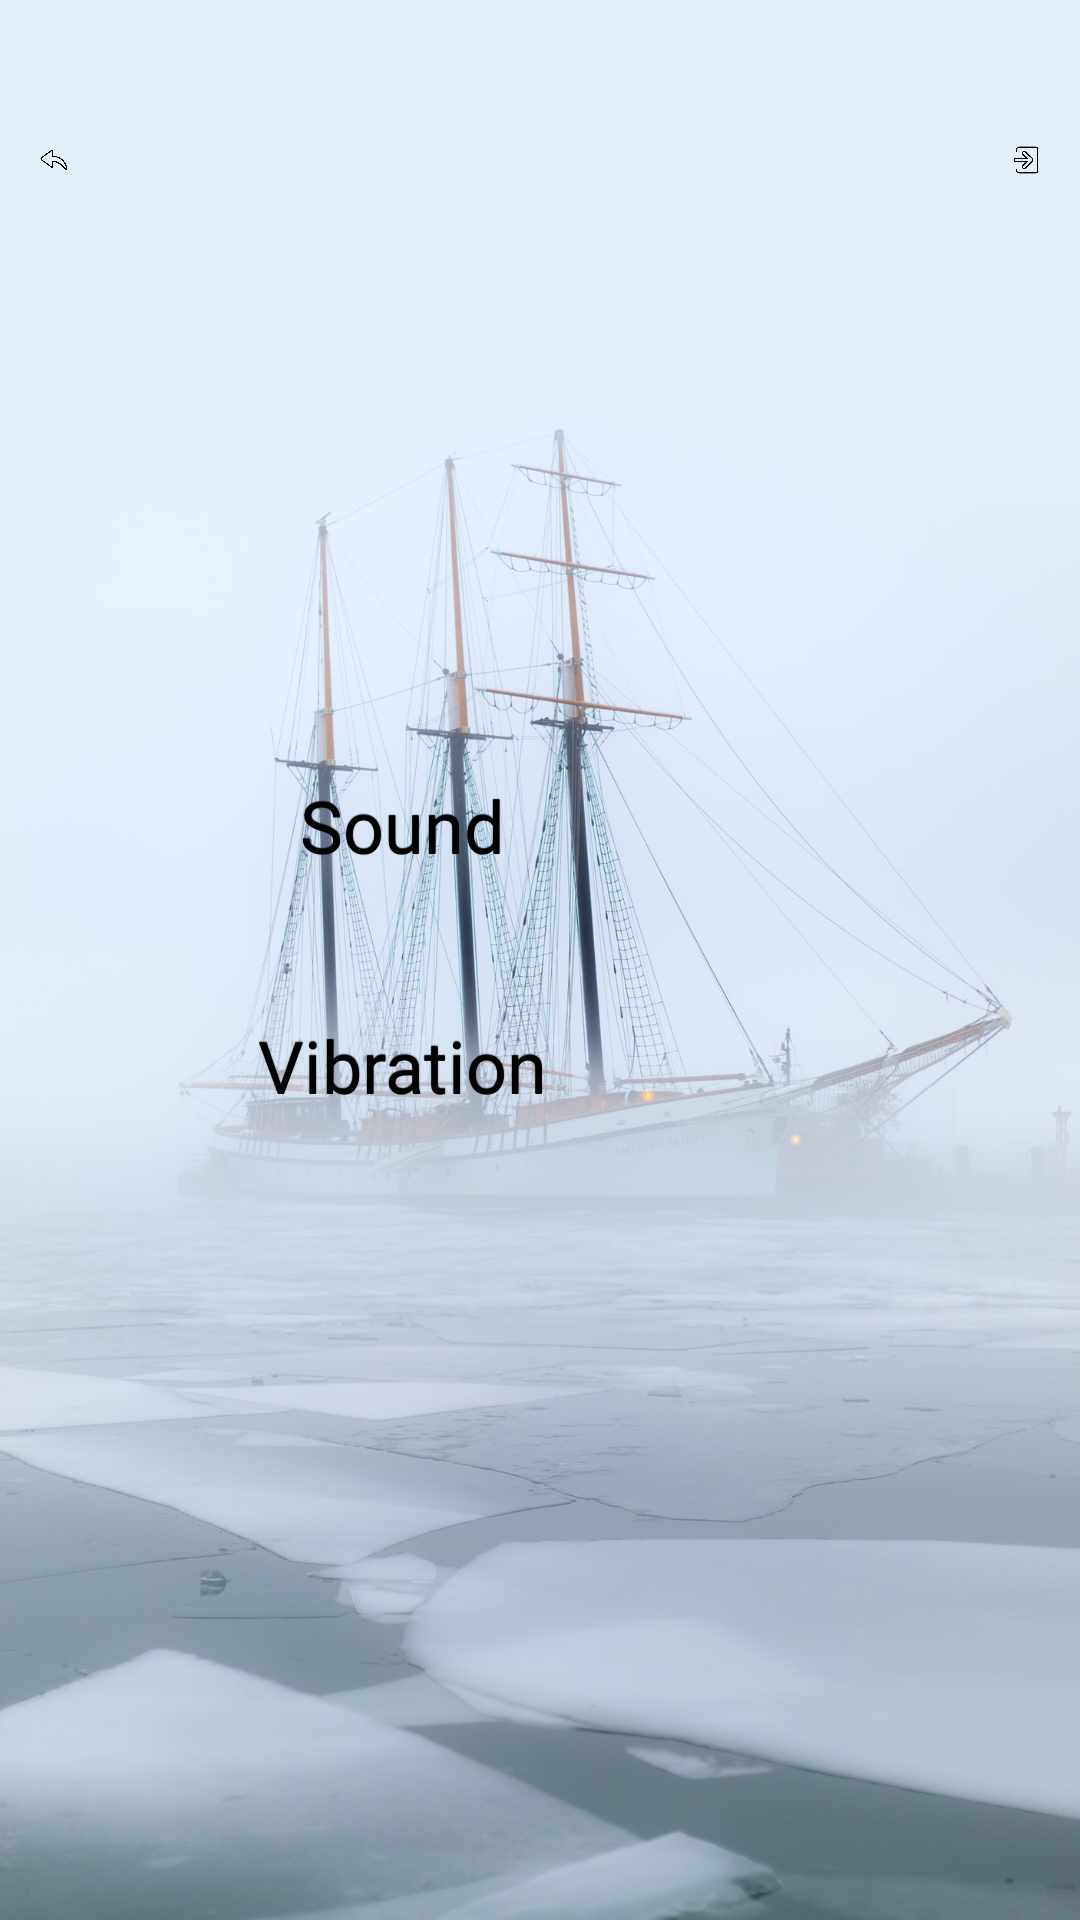

Where icons sit on this 1080×1920 app screen, as {"left": x1, "top": y1, "right": x2, "bottom": y2}:
Exit: {"left": 1014, "top": 146, "right": 1038, "bottom": 174}
